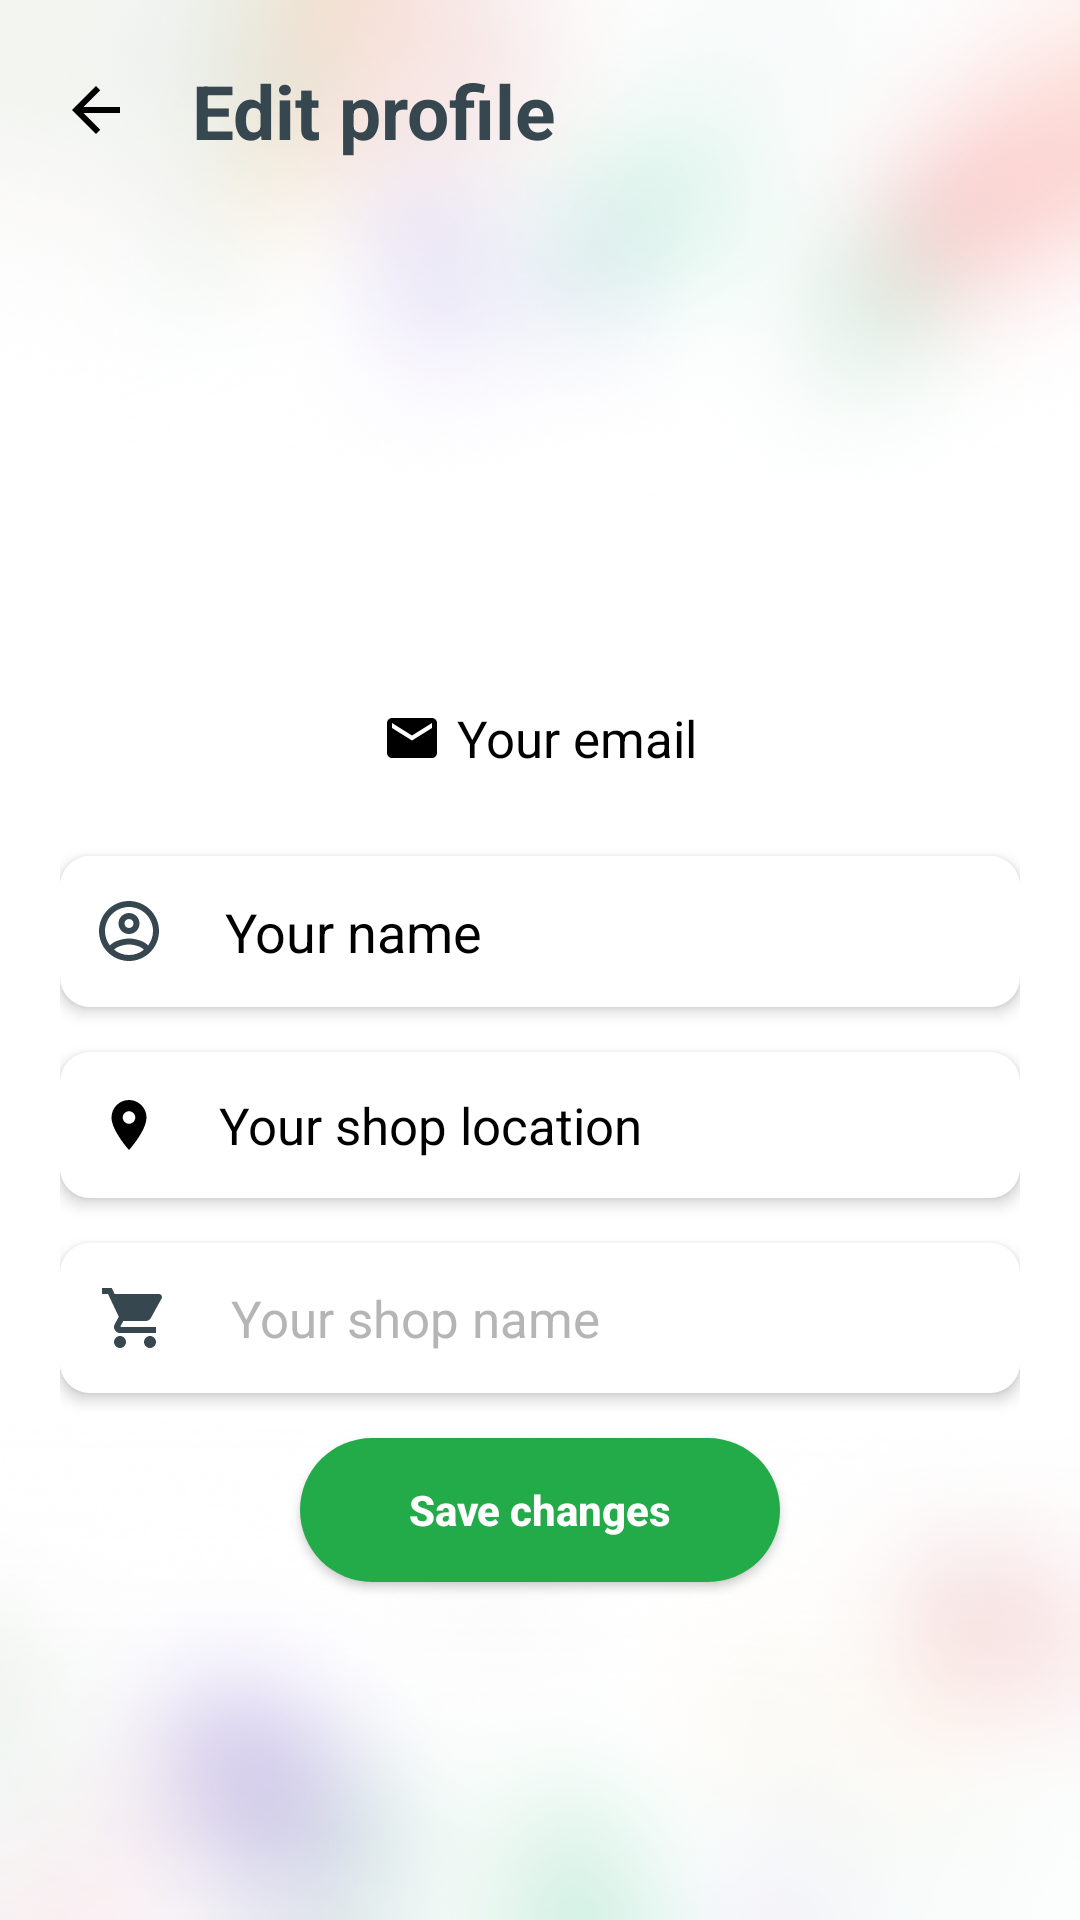

Named icons in this screenshot (1080×1920) and their bounding boxes, (x1, y1, x2, y2):
arrow back: (72, 86, 120, 134)
